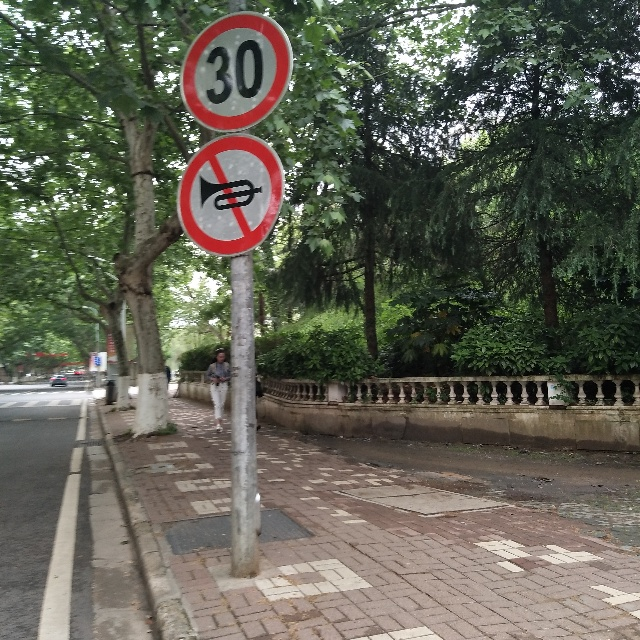nohonk: (188, 155, 277, 241)
